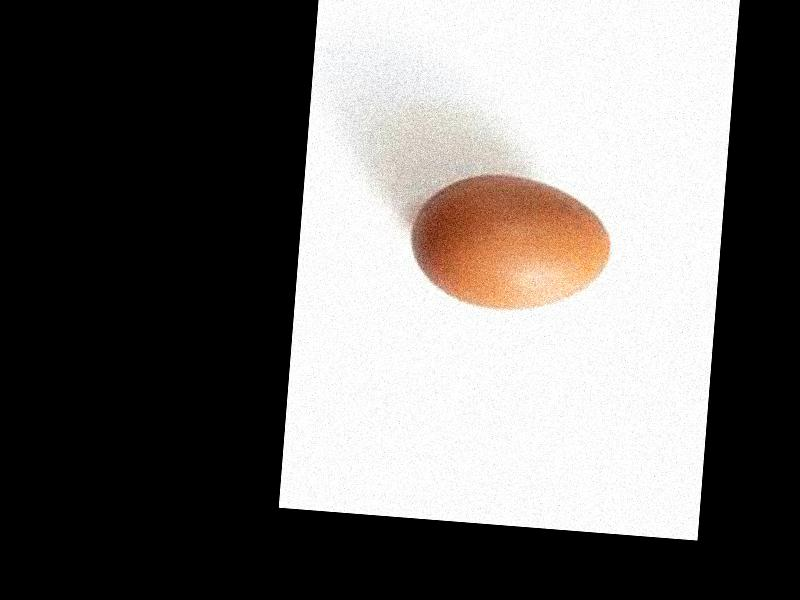Eggs: (407, 169, 616, 315)
